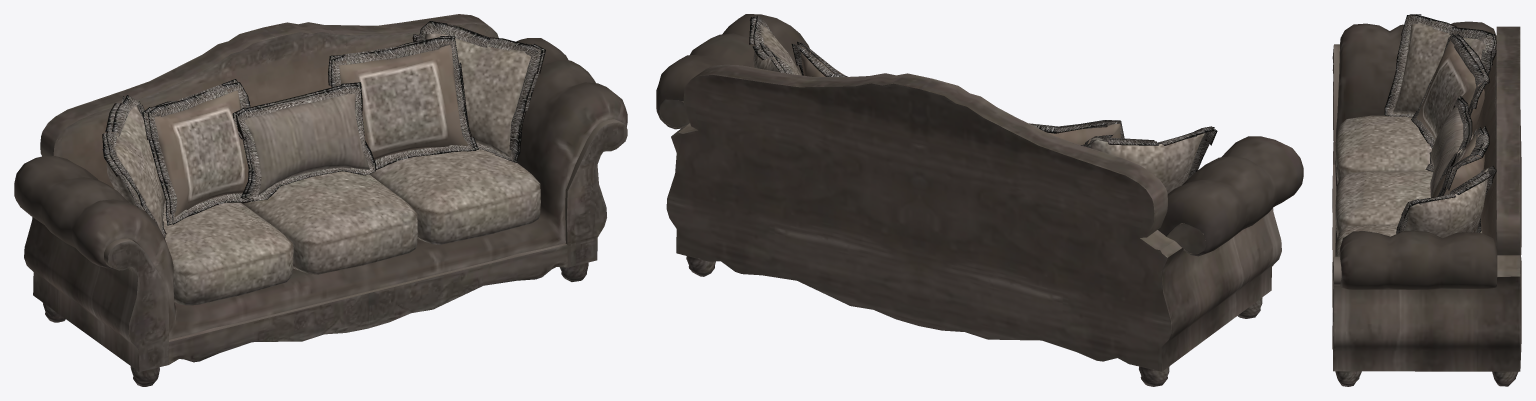
Rendered from sofa-chaise.glb.
3 renders of one model, left to right at view 1: azimuth 30°, elevation 25°; view 2: azimuth 150°, elevation 25°; view 3: azimuth 270°, elevation 25°, orthographic. The views are drawn at different scales.
Visible parts, largest first — view 1: sofa_03; view 2: sofa_03; view 3: sofa_03.
Boxes of the visible parts, box(x1,y1,x2,y2) form: sofa_03: box(14, 14, 627, 386); sofa_03: box(656, 14, 1303, 386); sofa_03: box(1332, 14, 1521, 386).
Bounding box in the file's own units: 3.14 × 1.29 × 1.06.
2 materials, 2 textured.
